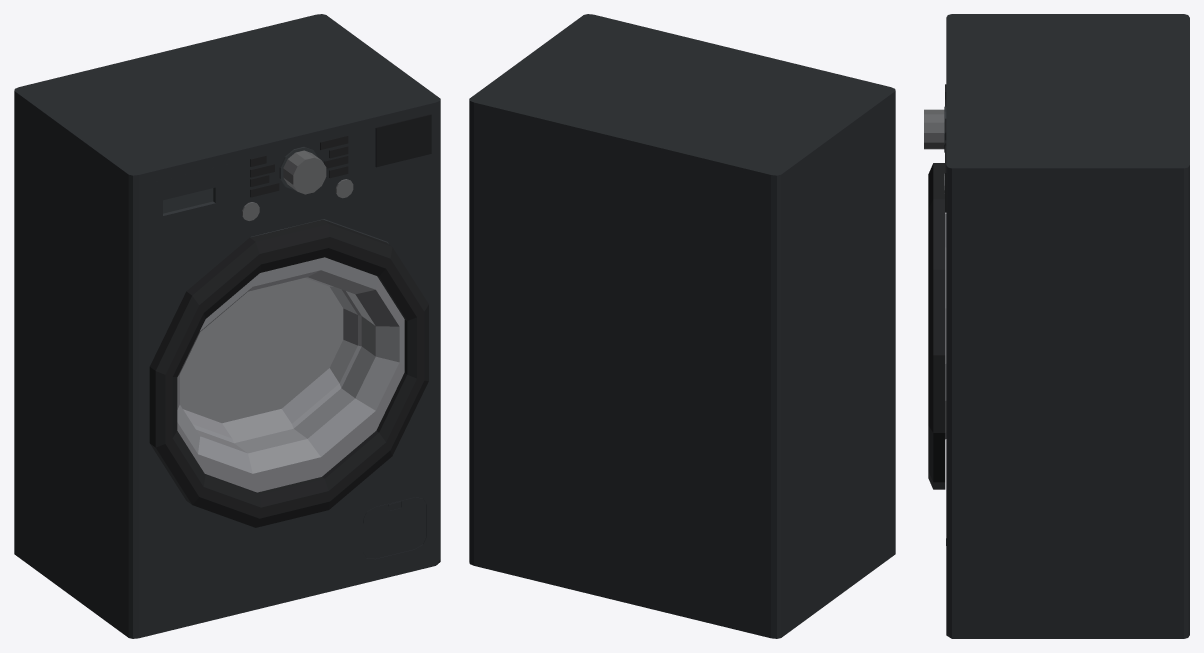
Rendered from washingmachine_01_E.gltf.
The picture shows the model from 3 angles, left to right: view 1: azimuth 30°, elevation 25°; view 2: azimuth 150°, elevation 25°; view 3: azimuth 270°, elevation 25°; orthographic projection.
Visible parts, largest first — view 1: washingmachine_01_E, Doorforwashingmachine_01_E, shelfforwashingmachine_01_E, hatchforwashingmachine_01_E, Switchforwashingmachine_03_E; view 2: washingmachine_01_E; view 3: washingmachine_01_E, Doorforwashingmachine_01_E, Switchforwashingmachine_03_E.
Boxes of the visible parts, left/top/right/bottom form: washingmachine_01_E: left=14, top=14, right=440, bottom=638; Doorforwashingmachine_01_E: left=149, top=219, right=428, bottom=527; shelfforwashingmachine_01_E: left=146, top=163, right=232, bottom=240; hatchforwashingmachine_01_E: left=363, top=497, right=426, bottom=558; Switchforwashingmachine_03_E: left=283, top=150, right=326, bottom=194; washingmachine_01_E: left=469, top=14, right=895, bottom=638; washingmachine_01_E: left=944, top=14, right=1189, bottom=638; Doorforwashingmachine_01_E: left=928, top=163, right=946, bottom=489; Switchforwashingmachine_03_E: left=924, top=109, right=944, bottom=149.
Bounding box in the file's own units: 0.6 × 0.8522 × 0.4363.
1 material, 1 textured.
